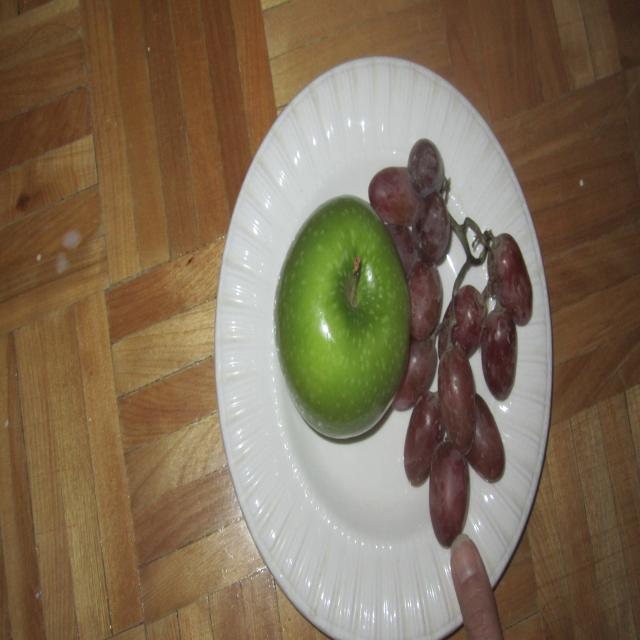apple: (264, 192, 406, 443)
grape: (407, 103, 571, 535)
